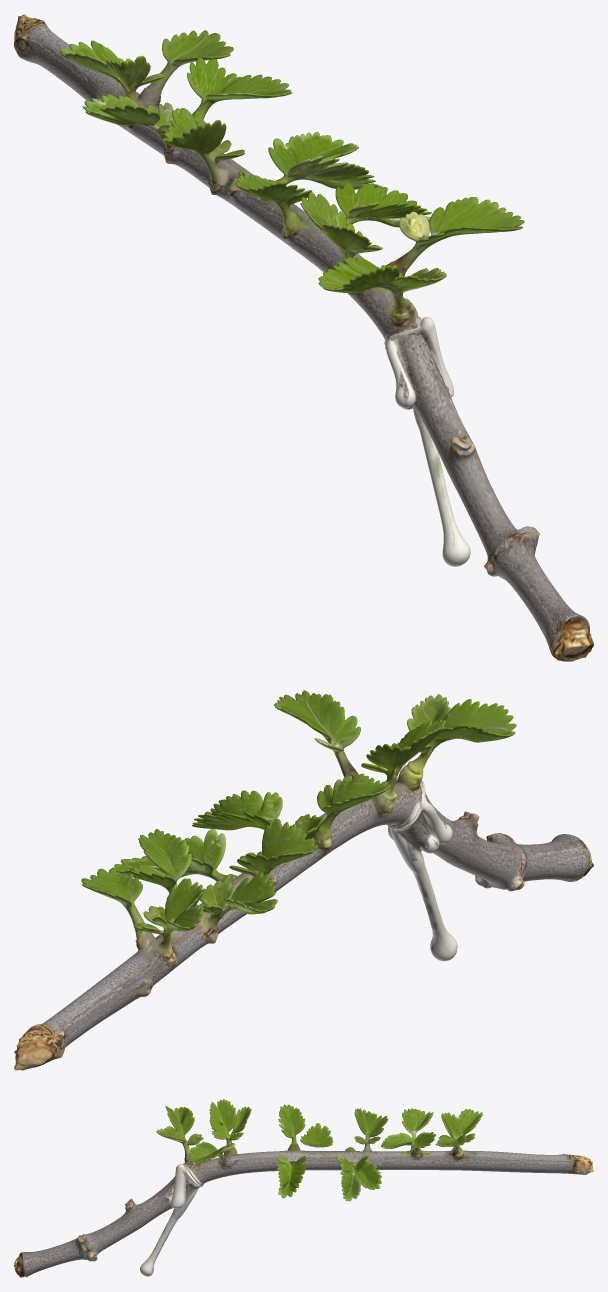
File: ruxiang.glb
The picture shows the model from 3 angles, top to bottom: view 1: azimuth 30°, elevation 25°; view 2: azimuth 150°, elevation 25°; view 3: azimuth 270°, elevation 25°; orthographic projection. The views are drawn at different scales.
Visible parts, largest first — view 1: node_0; view 2: node_0; view 3: node_0.
Part boxes in pixels (x1,y1,x2,y2): node_0: (14, 14, 593, 661); node_0: (14, 690, 593, 1070); node_0: (14, 1099, 593, 1277).
Size of the model in its own units: 0.2623 by 0.3553 by 1.16.
1 material, 1 textured.
